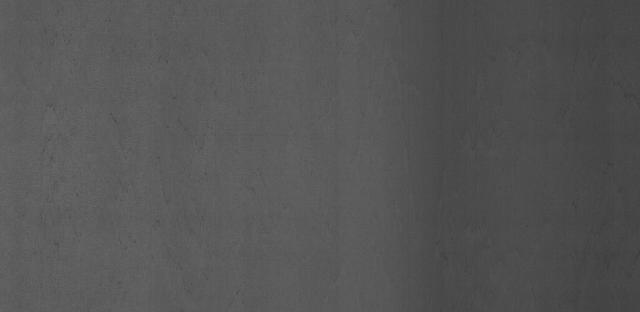silk_spot: (53, 51, 227, 228)
